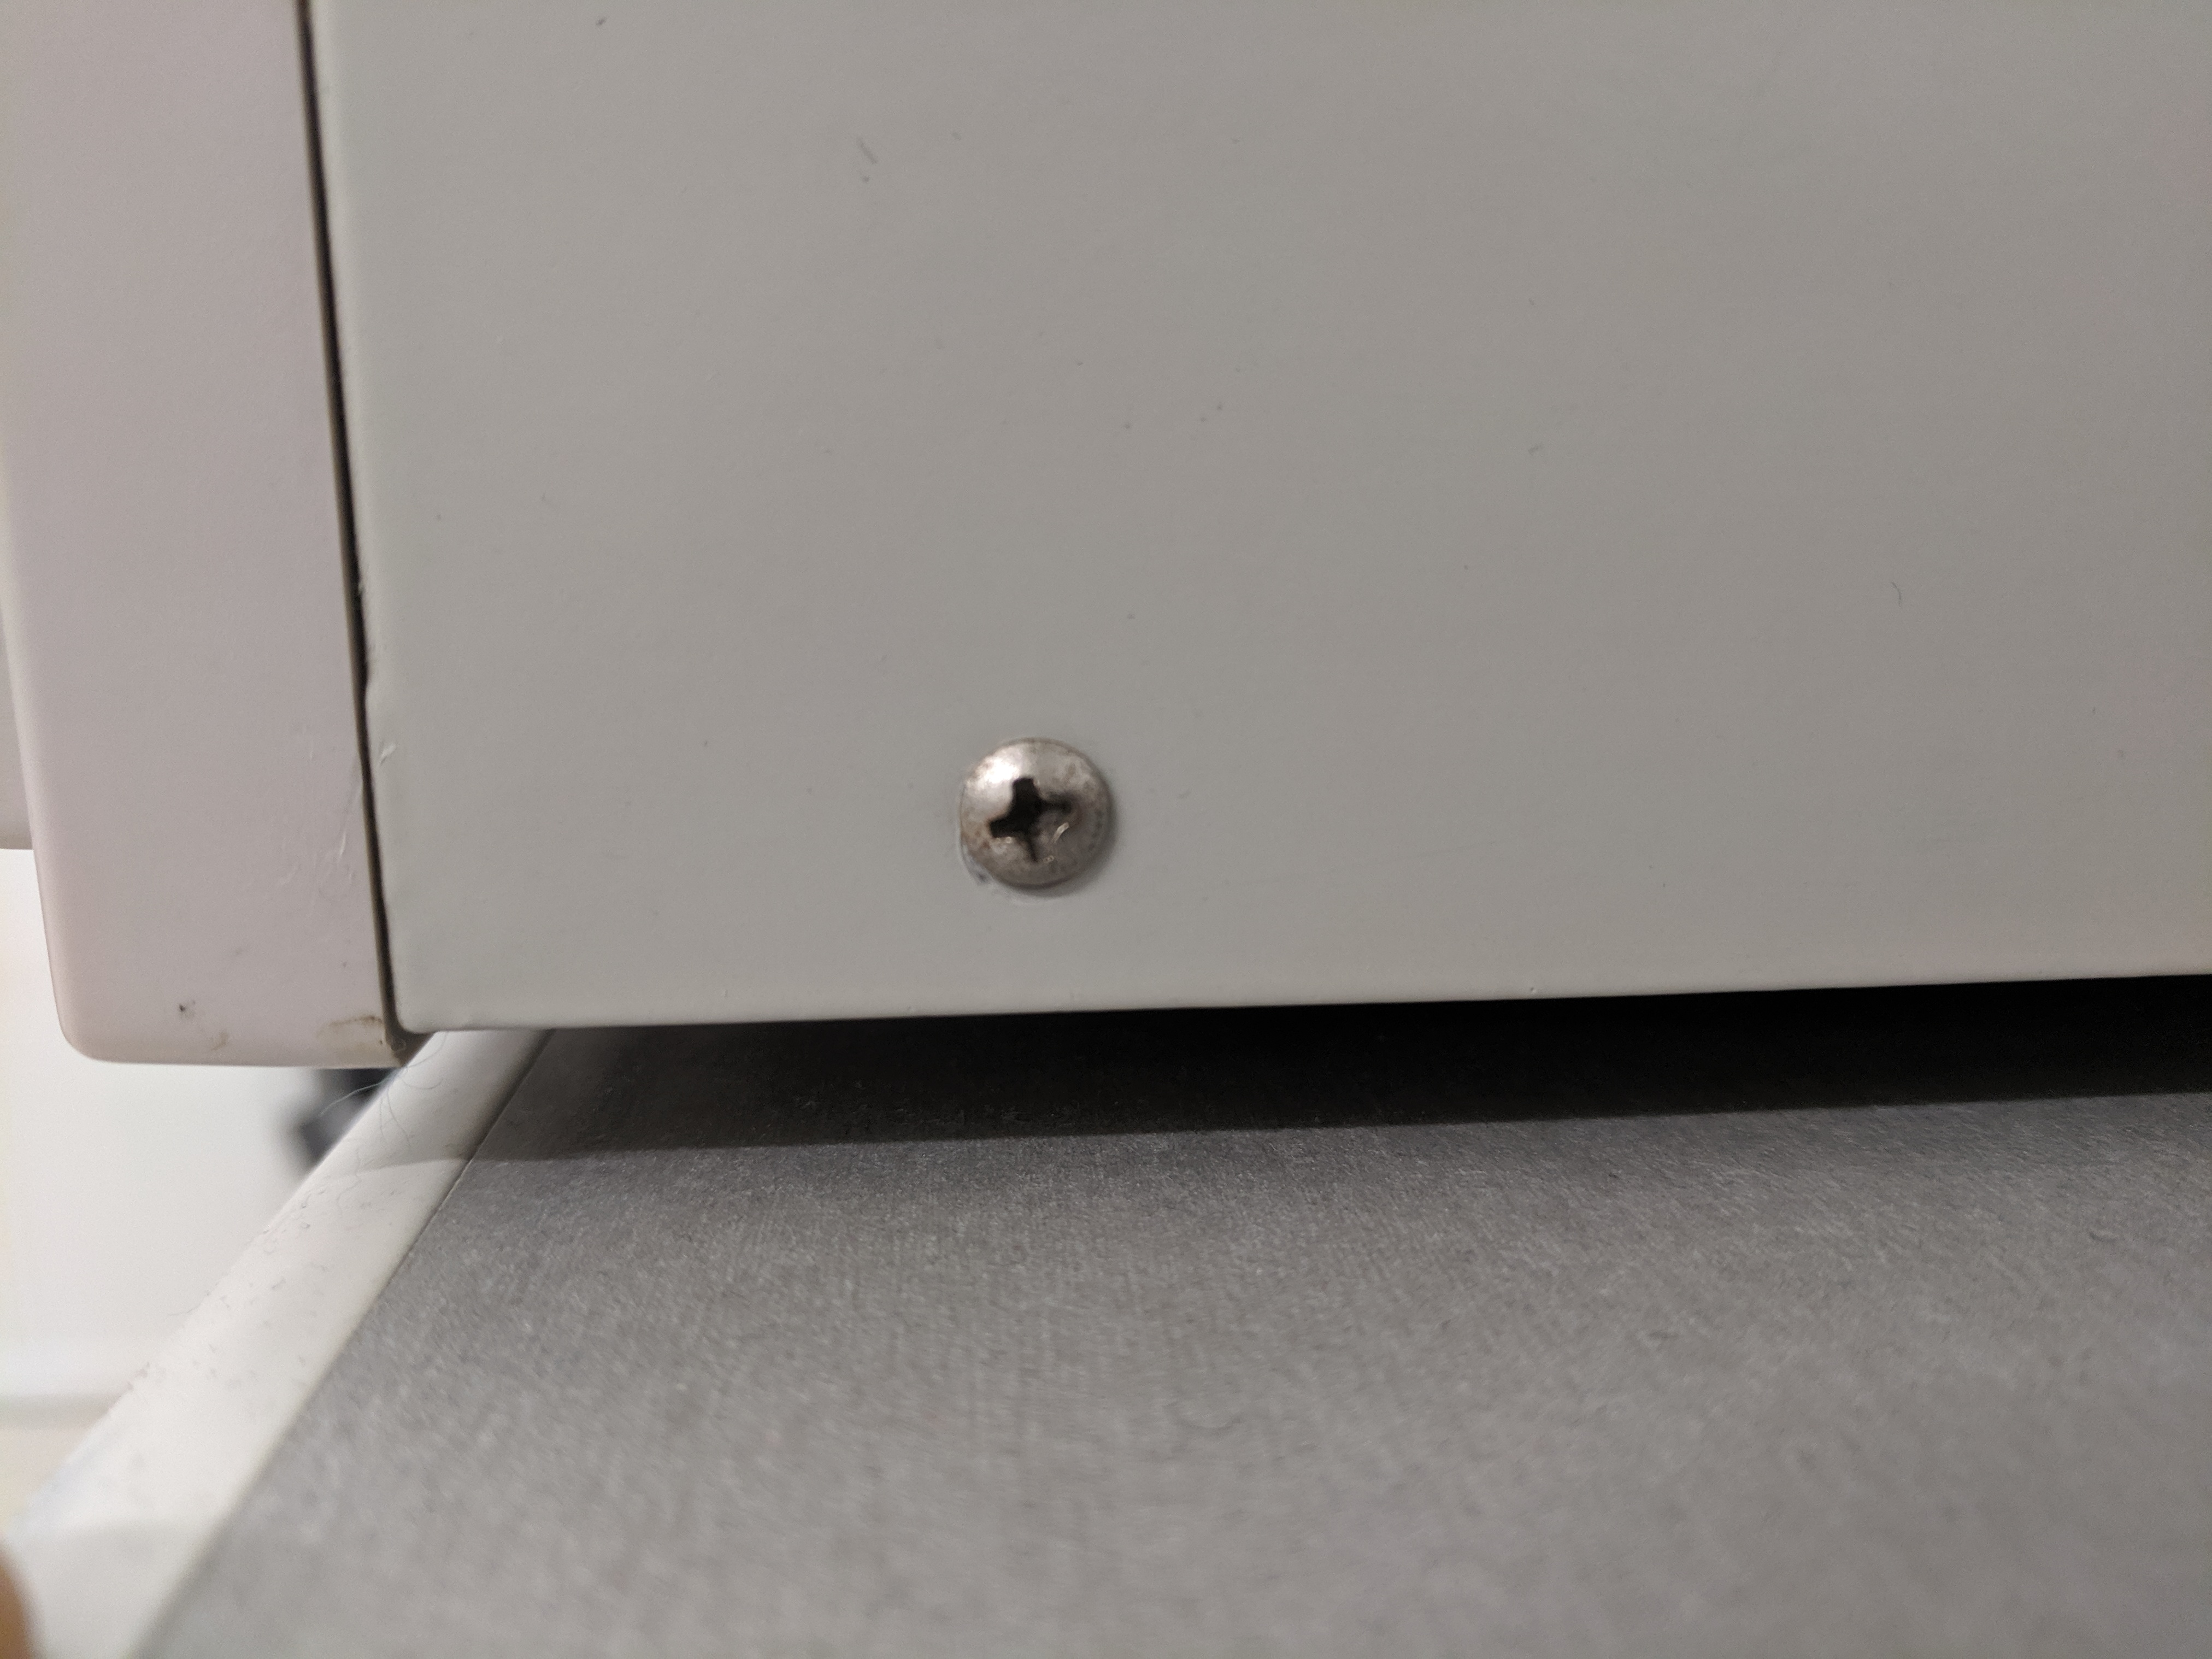cross_recessed_screw: (763, 1276, 890, 1375), (225, 204, 333, 307), (1831, 748, 1935, 838)
